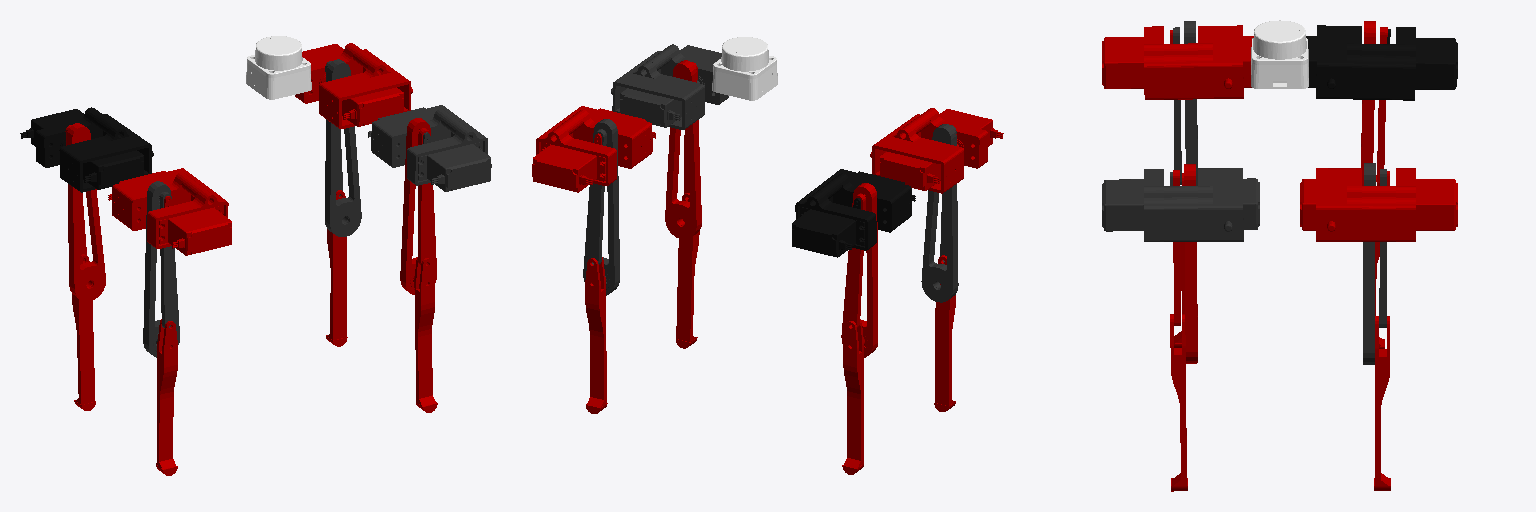
--- Render facts (derived) ---
3 views of the same robot in one strip: view 1: azimuth 30°, elevation 25°; view 2: azimuth 150°, elevation 25°; view 3: azimuth 270°, elevation 25° (orthographic).
Robot: kalbv2 — 19 links, 18 joints (12 revolute, 6 fixed); root link base_link; default pose: all joints at 0.
Visible links, largest first — view 1: rb_link, rf_link, lb_link, lf_link, lb1_link, lf1_link, lidar_link, rf1_link, rb1_link, rb2_link, rf2_link, lb2_link (+1 smaller); view 2: lb_link, rb_link, lf_link, rf_link, rb1_link, rf1_link, lidar_link, lf1_link, lb1_link, lf2_link, lb2_link, rb2_link (+1 smaller); view 3: lf_link, rf_link, rb_link, lb_link, lidar_link, lf1_link, rf1_link, lb1_link, rb1_link, rf2_link, lf2_link.
Link boxes in pixels (x1,y1,x2,y2): rb_link: (108, 168, 231, 255); rf_link: (368, 105, 491, 191); lb_link: (20, 107, 153, 192); lf_link: (295, 43, 412, 128); lb1_link: (65, 123, 105, 301); lf1_link: (325, 59, 361, 236); lidar_link: (246, 36, 311, 99); rf1_link: (400, 118, 436, 294); rb1_link: (143, 181, 179, 357); rb2_link: (156, 319, 177, 469); rf2_link: (414, 257, 435, 406); lb2_link: (72, 254, 94, 404); lb_link: (792, 169, 915, 257); rb_link: (870, 108, 1003, 193); lf_link: (532, 106, 655, 192); rf_link: (611, 44, 728, 129); rb1_link: (921, 124, 958, 302); rf1_link: (665, 60, 701, 239); lidar_link: (712, 37, 777, 100); lf1_link: (583, 119, 619, 295); lb1_link: (841, 183, 877, 357); lf2_link: (585, 257, 606, 407); lb2_link: (843, 319, 863, 468); rb2_link: (935, 255, 955, 405); lf_link: (1300, 168, 1457, 241); rf_link: (1102, 168, 1259, 241); rb_link: (1102, 25, 1253, 99); lb_link: (1306, 25, 1457, 100); lidar_link: (1251, 20, 1308, 88); lf1_link: (1363, 163, 1386, 364); rf1_link: (1173, 164, 1197, 363); lb1_link: (1361, 21, 1387, 185); rb1_link: (1173, 21, 1197, 185); rf2_link: (1170, 314, 1186, 485); lf2_link: (1375, 316, 1389, 485).
Size in the robot's own frame: 0.2905 by 0.2345 by 0.2934 metres.
17 mesh visuals loaded from 19 distinct referenced files (17 binary STL); not drawn: 2 (reference not matched to a file when rendering).

The robot description file, URDF, robot "kalbv2":
<?xml version="1.0" encoding="utf-8"?>
<!-- This URDF was automatically created by SolidWorks to URDF Exporter! Originally created by Stephen Brawner ([email redacted]) 
     Commit Version: 1.6.0-1-g15f4949  Build Version: 1.6.7594.29634
     For more information, please see http://wiki.ros.org/sw_urdf_exporter -->
<robot
  name="kalbv2">
  <link
    name="base_link">
    <inertial>
      <origin
        xyz="0.0097914 0.00030128 -0.011478"
        rpy="0 0 0" />
      <mass
        value="0.74216" />
      <inertia
        ixx="0.00046812"
        ixy="1.2623E-07"
        ixz="-2.5606E-08"
        iyy="0.00095107"
        iyz="4.2141E-08"
        izz="0.0012083" />
    </inertial>
    <visual>
      <origin
        xyz="0 0 0"
        rpy="0 0 0" />
      <geometry>
        <mesh
          filename="package://kalbv2/meshes/base_link.STL" />
      </geometry>
      <material
        name="">
        <color
          rgba="0.25098 0.25098 0.25098 1" />
      </material>
    </visual>
    <collision>
      <origin
        xyz="0 0 0"
        rpy="0 0 0" />
      <geometry>
        <mesh
          filename="package://kalbv2/meshes/base_link.STL" />
      </geometry>
    </collision>
  </link>
  <link
    name="lf_link">
    <inertial>
      <origin
        xyz="0.0411894863582298 0.0263096711026673 0.00100433318374624"
        rpy="0 0 0" />
      <mass
        value="0.0457711594663494" />
      <inertia
        ixx="5.80031021119984E-06"
        ixy="-4.36565777588689E-08"
        ixz="-1.08755403204597E-07"
        iyy="1.83279109478437E-05"
        iyz="-9.71526097366566E-08"
        izz="1.64781781366681E-05" />
    </inertial>
    <visual>
      <origin
        xyz="0 0 0"
        rpy="0 0 0" />
      <geometry>
        <mesh
          filename="package://kalbv2/meshes/lf_link.STL" />
      </geometry>
      <material
        name="">
        <color
          rgba="0.752941176470588 0 0 1" />
      </material>
    </visual>
    <collision>
      <origin
        xyz="0 0 0"
        rpy="0 0 0" />
      <geometry>
        <mesh
          filename="package://kalbv2/meshes/lf_link.STL" />
      </geometry>
    </collision>
  </link>
  <joint
    name="lf_joint"
    type="revolute">
    <origin
      xyz="0.07345 0.034003 -0.0101"
      rpy="0 0 0" />
    <parent
      link="base_link" />
    <child
      link="lf_link" />
    <axis
      xyz="-1 0 0" />
    <limit
      lower="-3.14"
      upper="3.14"
      effort="0"
      velocity="0" />
  </joint>
  <link
    name="lf1_link">
    <inertial>
      <origin
        xyz="0.00146641714933987 0.00187274220879018 -0.0484352113910952"
        rpy="0 0 0" />
      <mass
        value="0.019695847303043" />
      <inertia
        ixx="2.88832337959113E-05"
        ixy="2.44998613442871E-09"
        ixz="9.16345786996349E-07"
        iyy="2.97221572105929E-05"
        iyz="-7.65652022112889E-08"
        izz="1.01608242242567E-06" />
    </inertial>
    <visual>
      <origin
        xyz="0 0 0"
        rpy="0 0 0" />
      <geometry>
        <mesh
          filename="package://kalbv2/meshes/lf1_link.STL" />
      </geometry>
      <material
        name="">
        <color
          rgba="0.250980392156863 0.250980392156863 0.250980392156863 1" />
      </material>
    </visual>
    <collision>
      <origin
        xyz="0 0 0"
        rpy="0 0 0" />
      <geometry>
        <mesh
          filename="package://kalbv2/meshes/lf1_link.STL" />
      </geometry>
    </collision>
  </link>
  <joint
    name="lf1_joint"
    type="revolute">
    <origin
      xyz="0.0261 0.024847 -0.00012167"
      rpy="0 0 0" />
    <parent
      link="lf_link" />
    <child
      link="lf1_link" />
    <axis
      xyz="0 1 -0.0028881" />
    <limit
      lower="-3.14"
      upper="3.14"
      effort="0"
      velocity="0" />
  </joint>
  <link
    name="lf2_link">
    <inertial>
      <origin
        xyz="-0.000285478938898444 0.00356810890904931 -0.0409474323600445"
        rpy="0 0 0" />
      <mass
        value="0.00817653849269387" />
      <inertia
        ixx="1.02248081977029E-05"
        ixy="-1.80952298852927E-09"
        ixz="-7.01963860972266E-08"
        iyy="1.02533383271222E-05"
        iyz="-2.59563078323817E-07"
        izz="1.60021499787984E-07" />
    </inertial>
    <visual>
      <origin
        xyz="0 0 0"
        rpy="0 0 0" />
      <geometry>
        <mesh
          filename="package://kalbv2/meshes/lf2_link.STL" />
      </geometry>
      <material
        name="">
        <color
          rgba="0.752941176470588 0 0 1" />
      </material>
    </visual>
    <collision>
      <origin
        xyz="0 0 0"
        rpy="0 0 0" />
      <geometry>
        <mesh
          filename="package://kalbv2/meshes/lf2_link.STL" />
      </geometry>
    </collision>
  </link>
  <joint
    name="lf2_joint"
    type="revolute">
    <origin
      xyz="0.0032307 0.0039169 -0.10496"
      rpy="0 0 0" />
    <parent
      link="lf1_link" />
    <child
      link="lf2_link" />
    <axis
      xyz="0 1 -0.0028881" />
    <limit
      lower="-3.14"
      upper="3.14"
      effort="0"
      velocity="0" />
  </joint>
  <link
    name="lf3_link">
    <inertial>
      <origin
        xyz="5.42653388523745E-06 2.24737239629125E-06 0.000778147966473797"
        rpy="0 0 0" />
      <mass
        value="0.000109464869023519" />
      <inertia
        ixx="2.47395745223825E-09"
        ixy="2.25846873200789E-14"
        ixz="7.81990049428514E-12"
        iyy="1.88248835605242E-09"
        iyz="4.94666732137918E-12"
        izz="3.59524722790221E-09" />
    </inertial>
    <visual>
      <origin
        xyz="0 0 0"
        rpy="0 0 0" />
      <geometry>
        <mesh
          filename="package://kalbv2/meshes/lf3_link.STL" />
      </geometry>
      <material
        name="">
        <color
          rgba="0.752941176470588 0 0 1" />
      </material>
    </visual>
    <collision>
      <origin
        xyz="0 0 0"
        rpy="0 0 0" />
      <geometry>
        <mesh
          filename="package://kalbv2/meshes/lf3_link.STL" />
      </geometry>
    </collision>
  </link>
  <joint
    name="lf3_joint"
    type="fixed">
    <origin
      xyz="-0.00072509 0.0046997 -0.10399"
      rpy="0 0 0" />
    <parent
      link="lf2_link" />
    <child
      link="lf3_link" />
    <axis
      xyz="0 0 0" />
  </joint>
  <link
    name="rf_link">
    <inertial>
      <origin
        xyz="0.0411894863651799 -0.026315000546312 0.00085336096004064"
        rpy="0 0 0" />
      <mass
        value="0.0457711594674265" />
      <inertia
        ixx="5.80056057961725E-06"
        ixy="4.43005033447203E-08"
        ixz="-1.10896326733357E-07"
        iyy="1.83267352047483E-05"
        iyz="1.07760767315586E-07"
        izz="1.64791035067312E-05" />
    </inertial>
    <visual>
      <origin
        xyz="0 0 0"
        rpy="0 0 0" />
      <geometry>
        <mesh
          filename="package://kalbv2/meshes/rf_link.STL" />
      </geometry>
      <material
        name="">
        <color
          rgba="0.250980392156863 0.250980392156863 0.250980392156863 1" />
      </material>
    </visual>
    <collision>
      <origin
        xyz="0 0 0"
        rpy="0 0 0" />
      <geometry>
        <mesh
          filename="package://kalbv2/meshes/rf_link.STL" />
      </geometry>
    </collision>
  </link>
  <joint
    name="rf_joint"
    type="revolute">
    <origin
      xyz="0.07345 -0.034004 -0.0101"
      rpy="0 0 0" />
    <parent
      link="base_link" />
    <child
      link="rf_link" />
    <axis
      xyz="-1 0 0" />
    <limit
      lower="-3.14"
      upper="3.14"
      effort="0"
      velocity="0" />
  </joint>
  <link
    name="rf1_link">
    <inertial>
      <origin
        xyz="0.000138339739323465 -0.0015946232000931 -0.0484641191582759"
        rpy="0 0 0" />
      <mass
        value="0.019695847303043" />
      <inertia
        ixx="2.89135501549164E-05"
        ixy="-9.63926545534492E-10"
        ixz="1.14774703838775E-07"
        iyy="2.97203313783415E-05"
        iyz="2.41522056998708E-07"
        izz="9.87591895671904E-07" />
    </inertial>
    <visual>
      <origin
        xyz="0 0 0"
        rpy="0 0 0" />
      <geometry>
        <mesh
          filename="package://kalbv2/meshes/rf1_link.STL" />
      </geometry>
      <material
        name="">
        <color
          rgba="0.752941176470588 0 0 1" />
      </material>
    </visual>
    <collision>
      <origin
        xyz="0 0 0"
        rpy="0 0 0" />
      <geometry>
        <mesh
          filename="package://kalbv2/meshes/rf1_link.STL" />
      </geometry>
    </collision>
  </link>
  <joint
    name="rf1_joint"
    type="revolute">
    <origin
      xyz="0.0261 -0.024846 -0.00026422"
      rpy="0 0 0" />
    <parent
      link="rf_link" />
    <child
      link="rf1_link" />
    <axis
      xyz="0 0.99996 0.0086257" />
    <limit
      lower="-3.14"
      upper="3.14"
      effort="0"
      velocity="0" />
  </joint>
  <link
    name="rf2_link">
    <inertial>
      <origin
        xyz="0.000882722104496705 -0.0033322960133169 -0.041061378467503"
        rpy="0 0 0" />
      <mass
        value="0.00817653849269366" />
      <inertia
        ixx="1.02205823769774E-05"
        ixy="-6.86541360363269E-09"
        ixz="2.17775262824226E-07"
        iyy="1.0250028682207E-05"
        iyz="3.17372149505452E-07"
        izz="1.6755696542826E-07" />
    </inertial>
    <visual>
      <origin
        xyz="0 0 0"
        rpy="0 0 0" />
      <geometry>
        <mesh
          filename="package://kalbv2/meshes/rf2_link.STL" />
      </geometry>
      <material
        name="">
        <color
          rgba="0.752941176470588 0 0 1" />
      </material>
    </visual>
    <collision>
      <origin
        xyz="0 0 0"
        rpy="0 0 0" />
      <geometry>
        <mesh
          filename="package://kalbv2/meshes/rf2_link.STL" />
      </geometry>
    </collision>
  </link>
  <joint
    name="rf2_joint"
    type="revolute">
    <origin
      xyz="0.00043479 -0.003315 -0.10493"
      rpy="0 0 0" />
    <parent
      link="rf1_link" />
    <child
      link="rf2_link" />
    <axis
      xyz="0 0.99996 -0.0086257" />
    <limit
      lower="-3.14"
      upper="3.14"
      effort="0"
      velocity="0" />
  </joint>
  <link
    name="rf3_link">
    <inertial>
      <origin
        xyz="-1.68414057005462E-05 -6.71066735428993E-06 0.000777958925360367"
        rpy="0 0 0" />
      <mass
        value="0.000109464869023517" />
      <inertia
        ixx="2.47442817893787E-09"
        ixy="2.09296094558731E-13"
        ixz="-2.42634236206615E-11"
        iyy="1.88260146969171E-09"
        iyz="-1.47693311135484E-11"
        izz="3.5946633875632E-09" />
    </inertial>
    <visual>
      <origin
        xyz="0 0 0"
        rpy="0 0 0" />
      <geometry>
        <mesh
          filename="package://kalbv2/meshes/rf3_link.STL" />
      </geometry>
      <material
        name="">
        <color
          rgba="0.752941176470588 0 0 1" />
      </material>
    </visual>
    <collision>
      <origin
        xyz="0 0 0"
        rpy="0 0 0" />
      <geometry>
        <mesh
          filename="package://kalbv2/meshes/rf3_link.STL" />
      </geometry>
    </collision>
  </link>
  <joint
    name="rf3_joint"
    type="fixed">
    <origin
      xyz="0.0022471 -0.0041023 -0.1041"
      rpy="0 0 0" />
    <parent
      link="rf2_link" />
    <child
      link="rf3_link" />
    <axis
      xyz="0 0 0" />
  </joint>
  <link
    name="rb_link">
    <inertial>
      <origin
        xyz="0.0411894863695687 -0.0263184620426003 0.000738941380375576"
        rpy="0 0 0" />
      <mass
        value="0.0457711594622061" />
      <inertia
        ixx="5.8005790842666E-06"
        ixy="4.47933261834848E-08"
        ixz="-1.1155744255817E-07"
        iyy="1.83257632447727E-05"
        iyz="1.15789931546228E-07"
        izz="1.64800569580603E-05" />
    </inertial>
    <visual>
      <origin
        xyz="0 0 0"
        rpy="0 0 0" />
      <geometry>
        <mesh
          filename="package://kalbv2/meshes/rb_link.STL" />
      </geometry>
      <material
        name="">
        <color
          rgba="0.752941176470588 0 0 1" />
      </material>
    </visual>
    <collision>
      <origin
        xyz="0 0 0"
        rpy="0 0 0" />
      <geometry>
        <mesh
          filename="package://kalbv2/meshes/rb_link.STL" />
      </geometry>
    </collision>
  </link>
  <joint
    name="rb_joint"
    type="revolute">
    <origin
      xyz="-0.14905 -0.0340037258178606 -0.0101001390104264"
      rpy="0 0 0" />
    <parent
      link="base_link" />
    <child
      link="rb_link" />
    <axis
      xyz="-1 0 0" />
    <limit
      lower="-3.14"
      upper="3.14"
      effort="0"
      velocity="0" />
  </joint>
  <link
    name="rb1_link">
    <inertial>
      <origin
        xyz="0.00132758814972594 -0.0013841219626979 -0.0484532849310329"
        rpy="0 0 0" />
      <mass
        value="0.019695847303043" />
      <inertia
        ixx="2.88957596600225E-05"
        ixy="-9.10192919650103E-09"
        ixz="7.13941160570765E-07"
        iyy="2.97176911013005E-05"
        iyz="3.66203860974863E-07"
        izz="1.00802266760689E-06" />
    </inertial>
    <visual>
      <origin
        xyz="0 0 0"
        rpy="0 0 0" />
      <geometry>
        <mesh
          filename="package://kalbv2/meshes/rb1_link.STL" />
      </geometry>
      <material
        name="">
        <color
          rgba="0.250980392156863 0.250980392156863 0.250980392156863 1" />
      </material>
    </visual>
    <collision>
      <origin
        xyz="0 0 0"
        rpy="0 0 0" />
      <geometry>
        <mesh
          filename="package://kalbv2/meshes/rb1_link.STL" />
      </geometry>
    </collision>
  </link>
  <joint
    name="rb1_joint"
    type="revolute">
    <origin
      xyz="0.0261000000000121 -0.024844182919385 -0.000372244899679972"
      rpy="0 0 0" />
    <parent
      link="rb_link" />
    <child
      link="rb1_link" />
    <axis
      xyz="0 0.999915844557343 0.0129731955653438" />
    <limit
      lower="-3.14"
      upper="3.14"
      effort="0"
      velocity="0" />
  </joint>
  <link
    name="rb2_link">
    <inertial>
      <origin
        xyz="8.76219255945831E-05 -0.00315564506215645 -0.0409285811956291"
        rpy="0 0 0" />
      <mass
        value="0.00817653849269387" />
      <inertia
        ixx="1.02252977553022E-05"
        ixy="2.54166186180722E-19"
        ixz="-7.08204063162027E-18"
        iyy="1.02470762038086E-05"
        iyz="3.61311101742402E-07"
        izz="1.65794065502392E-07" />
    </inertial>
    <visual>
      <origin
        xyz="0 0 0"
        rpy="0 0 0" />
      <geometry>
        <mesh
          filename="package://kalbv2/meshes/rb2_link.STL" />
      </geometry>
      <material
        name="">
        <color
          rgba="0.752941176470588 0 0 1" />
      </material>
    </visual>
    <collision>
      <origin
        xyz="0 0 0"
        rpy="0 0 0" />
      <geometry>
        <mesh
          filename="package://kalbv2/meshes/rb2_link.STL" />
      </geometry>
    </collision>
  </link>
  <joint
    name="rb2_joint"
    type="revolute">
    <origin
      xyz="0.00259755916284909 -0.00285720746757014 -0.105065322967171"
      rpy="0 0 0" />
    <parent
      link="rb1_link" />
    <child
      link="rb2_link" />
    <axis
      xyz="0 0.999915844557342 -0.012973195565345" />
    <limit
      lower="-3.14"
      upper="3.14"
      effort="0"
      velocity="0" />
  </joint>
  <link
    name="rb3_link">
    <inertial>
      <origin
        xyz="-7.14872605556138E-13 -1.00953533414272E-05 0.000778104647540134"
        rpy="0 0 0" />
      <mass
        value="0.000109464869023518" />
      <inertia
        ixx="2.47390291896578E-09"
        ixy="-8.03689207760127E-24"
        ixz="7.84563153546021E-22"
        iyy="1.88276234738097E-09"
        iyz="-2.22191639335186E-11"
        izz="3.59502776984605E-09" />
    </inertial>
    <visual>
      <origin
        xyz="0 0 0"
        rpy="0 0 0" />
      <geometry>
        <mesh
          filename="package://kalbv2/meshes/rb3_link.STL" />
      </geometry>
      <material
        name="">
        <color
          rgba="0.752941176470588 0 0 1" />
      </material>
    </visual>
    <collision>
      <origin
        xyz="0 0 0"
        rpy="0 0 0" />
      <geometry>
        <mesh
          filename="package://kalbv2/meshes/rb3_link.STL" />
      </geometry>
    </collision>
  </link>
  <joint
    name="rb3_joint"
    type="fixed">
    <origin
      xyz="8.76219262720968E-05 -0.00365133832138143 -0.103981239766041"
      rpy="0 0 0" />
    <parent
      link="rb2_link" />
    <child
      link="rb3_link" />
    <axis
      xyz="0 0 0" />
  </joint>
  <link
    name="lb_link">
    <inertial>
      <origin
        xyz="0.0411894863700732 0.0263239831472997 0.000505360799620241"
        rpy="0 0 0" />
      <mass
        value="0.0457711593951246" />
      <inertia
        ixx="5.80020199861806E-06"
        ixy="-4.56976122941878E-08"
        ixz="-1.07315166440331E-07"
        iyy="1.83235630753893E-05"
        iyz="-1.32142262607926E-07"
        izz="1.64826342003956E-05" />
    </inertial>
    <visual>
      <origin
        xyz="0 0 0"
        rpy="0 0 0" />
      <geometry>
        <mesh
          filename="package://kalbv2/meshes/lb_link.STL" />
      </geometry>
      <material
        name="">
        <color
          rgba="0.0980392156862745 0.0980392156862745 0.0980392156862745 1" />
      </material>
    </visual>
    <collision>
      <origin
        xyz="0 0 0"
        rpy="0 0 0" />
      <geometry>
        <mesh
          filename="package://kalbv2/meshes/lb_link.STL" />
      </geometry>
    </collision>
  </link>
  <joint
    name="lb_joint"
    type="revolute">
    <origin
      xyz="-0.14905 0.0340041681403332 -0.0101001740368266"
      rpy="0 0 0" />
    <parent
      link="base_link" />
    <child
      link="lb_link" />
    <axis
      xyz="-1 0 0" />
    <limit
      lower="-3.14"
      upper="3.14"
      effort="0"
      velocity="0" />
  </joint>
  <link
    name="lb1_link">
    <inertial>
      <origin
        xyz="0.00244301792193641 0.000955002234767507 -0.0484219275896185"
        rpy="0 0 0" />
      <mass
        value="0.019695847303043" />
      <inertia
        ixx="2.88357682642712E-05"
        ixy="3.18098685255187E-08"
        ixz="1.47059699290799E-06"
        iyy="2.97089593882337E-05"
        iyz="-6.19604386992237E-07"
        izz="1.07674577642503E-06" />
    </inertial>
    <visual>
      <origin
        xyz="0 0 0"
        rpy="0 0 0" />
      <geometry>
        <mesh
          filename="package://kalbv2/meshes/lb1_link.STL" />
      </geometry>
      <material
        name="">
        <color
          rgba="0.752941176470588 0 0 1" />
      </material>
    </visual>
    <collision>
      <origin
        xyz="0 0 0"
        rpy="0 0 0" />
      <geometry>
        <mesh
          filename="package://kalbv2/meshes/lb1_link.STL" />
      </geometry>
    </collision>
  </link>
  <joint
    name="lb1_joint"
    type="revolute">
    <origin
      xyz="0.0260999999999995 0.0248399013528206 -0.000592698894318884"
      rpy="0 0 0" />
    <parent
      link="lb_link" />
    <child
      link="lb1_link" />
    <axis
      xyz="0 0.999761347813009 0.0218459932050663" />
    <limit
      lower="-3.14"
      upper="3.14"
      effort="0"
      velocity="0" />
  </joint>
  <link
    name="lb2_link">
    <inertial>
      <origin
        xyz="0.000583216542495379 0.00279076953087293 -0.0410258517192321"
        rpy="0 0 0" />
      <mass
        value="0.00817653849269374" />
      <inertia
        ixx="1.02224919423556E-05"
        ixy="7.51683298724609E-09"
        ixz="1.67919766482273E-07"
        iyy="1.02398727192404E-05"
        iyz="-4.50619166346111E-07"
        izz="1.75803363016799E-07" />
    </inertial>
    <visual>
      <origin
        xyz="0 0 0"
        rpy="0 0 0" />
      <geometry>
        <mesh
          filename="package://kalbv2/meshes/lb2_link.STL" />
      </geometry>
      <material
        name="">
        <color
          rgba="0.752941176470588 0 0 1" />
      </material>
    </visual>
    <collision>
      <origin
        xyz="0 0 0"
        rpy="0 0 0" />
      <geometry>
        <mesh
          filename="package://kalbv2/meshes/lb2_link.STL" />
      </geometry>
    </collision>
  </link>
  <joint
    name="lb2_joint"
    type="revolute">
    <origin
      xyz="0.00544229229119725 0.00192863337347882 -0.104908340746083"
      rpy="0 0 0" />
    <parent
      link="lb1_link" />
    <child
      link="lb2_link" />
    <axis
      xyz="0 0.999761347813009 -0.0218459932050723" />
    <limit
      lower="-3.14"
      upper="3.14"
      effort="0"
      velocity="0" />
  </joint>
  <link
    name="lb3_link">
    <inertial>
      <origin
        xyz="-1.29912212900041E-05 1.69975302588138E-05 0.000777875997779703"
        rpy="0 0 0" />
      <mass
        value="0.000109464869023519" />
      <inertia
        ixx="2.47421546678879E-09"
        ixy="-4.08933154000196E-13"
        ixz="-1.87144414714726E-11"
        iyy="1.8832913698126E-09"
        iyz="3.74029778641264E-11"
        izz="3.59418619959149E-09" />
    </inertial>
    <visual>
      <origin
        xyz="0 0 0"
        rpy="0 0 0" />
      <geometry>
        <mesh
          filename="package://kalbv2/meshes/lb3_link.STL" />
      </geometry>
      <material
        name="">
        <color
          rgba="0.752941176470588 0 0 1" />
      </material>
    </visual>
    <collision>
      <origin
        xyz="0 0 0"
        rpy="0 0 0" />
      <geometry>
        <mesh
          filename="package://kalbv2/meshes/lb3_link.STL" />
      </geometry>
    </collision>
  </link>
  <joint
    name="lb3_joint"
    type="fixed">
    <origin
      xyz="0.00163565806616556 0.00272710242669384 -0.104071642837333"
      rpy="0 0 0" />
    <parent
      link="lb2_link" />
    <child
      link="lb3_link" />
    <axis
      xyz="0 0 0" />
  </joint>
  <link
    name="camera_link">
    <inertial>
      <origin
        xyz="0.166043176512695 0.00171290851049758 2.52573190186932E-06"
        rpy="0 0 0" />
      <mass
        value="0.0375090863080631" />
      <inertia
        ixx="2.321574839669E-05"
        ixy="4.51123887935605E-08"
        ixz="-1.30126348097841E-08"
        iyy="2.09772639571916E-06"
        iyz="-8.02354190094558E-09"
        izz="2.19130426942268E-05" />
    </inertial>
    <visual>
      <origin
        xyz="0 0 0"
        rpy="0 0 0" />
      <geometry>
        <mesh
          filename="package://kalbv2/meshes/camera_link.STL" />
      </geometry>
      <material
        name="">
        <color
          rgba="0.792156862745098 0.819607843137255 0.933333333333333 1" />
      </material>
    </visual>
    <collision>
      <origin
        xyz="0 0 0"
        rpy="0 0 0" />
      <geometry>
        <mesh
          filename="package://kalbv2/meshes/camera_link.STL" />
      </geometry>
    </collision>
  </link>
  <joint
    name="camera_joint"
    type="fixed">
    <origin
      xyz="0 0 0"
      rpy="0 0 0" />
    <parent
      link="base_link" />
    <child
      link="camera_link" />
    <axis
      xyz="0 0 0" />
  </joint>
  <link
    name="lidar_link">
    <inertial>
      <origin
        xyz="0 0 0"
        rpy="0 0 0" />
      <mass
        value="0" />
      <inertia
        ixx="0"
        ixy="0"
        ixz="0"
        iyy="0"
        iyz="0"
        izz="0" />
    </inertial>
    <visual>
      <origin
        xyz="0 0 0"
        rpy="0 0 0" />
      <geometry>
        <mesh
          filename="package://kalbv2/meshes/lidar_link.STL" />
      </geometry>
      <material
        name="">
        <color
          rgba="1 1 1 1" />
      </material>
    </visual>
    <collision>
      <origin
        xyz="0 0 0"
        rpy="0 0 0" />
      <geometry>
        <mesh
          filename="package://kalbv2/meshes/lidar_link.STL" />
      </geometry>
    </collision>
  </link>
  <joint
    name="lidar_joint"
    type="fixed">
    <origin
      xyz="0 0 0"
      rpy="0 0 0" />
    <parent
      link="base_link" />
    <child
      link="lidar_link" />
    <axis
      xyz="0 0 0" />
  </joint>
  
  
  <!--transmissions-->
  <transmission name="lf_hip_joint_trans">
    <type>transmission_interface/SimpleTransmission</type>
    <joint name="lf_joint">
      <hardwareInterface>hardware_interface/EffortJointInterface</hardwareInterface>
    </joint>
    <actuator name="lf_joint_motor">
      <hardwareInterface>hardware_interface/EffortJointInterface</hardwareInterface>
      <mechanicalReduction>1</mechanicalReduction>
    </actuator>
  </transmission>
  <transmission name="lf1_upper_leg_joint_trans">
    <type>transmission_interface/SimpleTransmission</type>
    <joint name="lf1_joint">
      <hardwareInterface>hardware_interface/EffortJointInterface</hardwareInterface>
    </joint>
    <actuator name="lf1_upper_leg_joint_motor">
      <hardwareInterface>hardware_interface/EffortJointInterface</hardwareInterface>
      <mechanicalReduction>1</mechanicalReduction>
    </actuator>
  </transmission>
  <transmission name="lf2_lower_leg_joint_trans">
    <type>transmission_interface/SimpleTransmission</type>
    <joint name="lf2_joint">
      <hardwareInterface>hardware_interface/EffortJointInterface</hardwareInterface>
    </joint>
    <actuator name="lf2_lower_joint_motor">
      <hardwareInterface>hardware_interface/EffortJointInterface</hardwareInterface>
      <mechanicalReduction>1</mechanicalReduction>
    </actuator>
  </transmission>
  
  <transmission name="rf_hip_joint_trans">
    <type>transmission_interface/SimpleTransmission</type>
    <joint name="rf_joint">
      <hardwareInterface>hardware_interface/EffortJointInterface</hardwareInterface>
    </joint>
    <actuator name="rf_joint_motor">
      <hardwareInterface>hardware_interface/EffortJointInterface</hardwareInterface>
      <mechanicalReduction>1</mechanicalReduction>
    </actuator>
  </transmission>
  <transmission name="rf1_upper_leg_joint_trans">
    <type>transmission_interface/SimpleTransmission</type>
    <joint name="rf1_joint">
      <hardwareInterface>hardware_interface/EffortJointInterface</hardwareInterface>
    </joint>
    <actuator name="rf1_upper_leg_joint_motor">
      <hardwareInterface>hardware_interface/EffortJointInterface</hardwareInterface>
      <mechanicalReduction>1</mechanicalReduction>
    </actuator>
  </transmission>
  <transmission name="rf2_lower_leg_joint_trans">
    <type>transmission_interface/SimpleTransmission</type>
    <joint name="rf2_joint">
      <hardwareInterface>hardware_interface/EffortJointInterface</hardwareInterface>
    </joint>
    <actuator name="rf2_lower_joint_motor">
      <hardwareInterface>hardware_interface/EffortJointInterface</hardwareInterface>
      <mechanicalReduction>1</mechanicalReduction>
    </actuator>
  </transmission>
  
  <transmission name="rb_hip_joint_trans">
    <type>transmission_interface/SimpleTransmission</type>
    <joint name="rb_joint">
      <hardwareInterface>hardware_interface/EffortJointInterface</hardwareInterface>
    </joint>
    <actuator name="rb_joint_motor">
      <hardwareInterface>hardware_interface/EffortJointInterface</hardwareInterface>
      <mechanicalReduction>1</mechanicalReduction>
    </actuator>
  </transmission>
  <transmission name="rb1_upper_leg_joint_trans">
    <type>transmission_interface/SimpleTransmission</type>
    <joint name="rb1_joint">
      <hardwareInterface>hardware_interface/EffortJointInterface</hardwareInterface>
    </joint>
    <actuator name="rb1_upper_leg_joint_motor">
      <hardwareInterface>hardware_interface/EffortJointInterface</hardwareInterface>
      <mechanicalReduction>1</mechanicalReduction>
    </actuator>
  </transmission>
  <transmission name="rb2_lower_leg_joint_trans">
    <type>transmission_interface/SimpleTransmission</type>
    <joint name="rb2_joint">
      <hardwareInterface>hardware_interface/EffortJointInterface</hardwareInterface>
    </joint>
    <actuator name="rb2_lower_joint_motor">
      <hardwareInterface>hardware_interface/EffortJointInterface</hardwareInterface>
      <mechanicalReduction>1</mechanicalReduction>
    </actuator>
  </transmission>
  
  <transmission name="lb_hip_joint_trans">
    <type>transmission_interface/SimpleTransmission</type>
    <joint name="lb_joint">
      <hardwareInterface>hardware_interface/EffortJointInterface</hardwareInterface>
    </joint>
    <actuator name="lb_joint_motor">
      <hardwareInterface>hardware_interface/EffortJointInterface</hardwareInterface>
      <mechanicalReduction>1</mechanicalReduction>
    </actuator>
  </transmission>
  <transmission name="lb1_upper_leg_joint_trans">
    <type>transmission_interface/SimpleTransmission</type>
    <joint name="lb1_joint">
      <hardwareInterface>hardware_interface/EffortJointInterface</hardwareInterface>
    </joint>
    <actuator name="lb1_upper_leg_joint_motor">
      <hardwareInterface>hardware_interface/EffortJointInterface</hardwareInterface>
      <mechanicalReduction>1</mechanicalReduction>
    </actuator>
  </transmission>
  <transmission name="lb2_lower_leg_joint_trans">
    <type>transmission_interface/SimpleTransmission</type>
    <joint name="lb2_joint">
      <hardwareInterface>hardware_interface/EffortJointInterface</hardwareInterface>
    </joint>
    <actuator name="lb2_lower_joint_motor">
      <hardwareInterface>hardware_interface/EffortJointInterface</hardwareInterface>
      <mechanicalReduction>1</mechanicalReduction>
    </actuator>
  </transmission>
  <!--gazebo refrence-->
  
  <!--gazebo plugins-->
   <gazebo>
    <plugin filename="libgazebo_ros_p3d.so" name="p3d_base_controller">
      <alwaysOn>true</alwaysOn>
      <updateRate>10.0</updateRate>
      <bodyName>base_link</bodyName>
      <topicName>odom/ground_truth</topicName>
      <gaussianNoise>0.01</gaussianNoise>
      <frameName>world</frameName>
      <xyzOffsets>0 0 0</xyzOffsets>
      <rpyOffsets>0 0 0</rpyOffsets>
    </plugin>
  </gazebo>
  
<gazebo>
    <plugin filename="libgazebo_ros_p3d.so" name="p3d_base_controller">
      <alwaysOn>true</alwaysOn>
      <updateRate>10.0</updateRate>
      <bodyName>base_link</bodyName>
      <topicName>odom/ground_truth</topicName>
      <gaussianNoise>0.01</gaussianNoise>
      <frameName>world</frameName>
      <xyzOffsets>0 0 0</xyzOffsets>
      <rpyOffsets>0 0 0</rpyOffsets>
    </plugin>
  </gazebo>
  <gazebo>
    <plugin filename="libgazebo_ros_control.so" name="gazebo_ros_control">
      <legacyModeNS>true</legacyModeNS>
    </plugin>
  </gazebo>
</robot>
